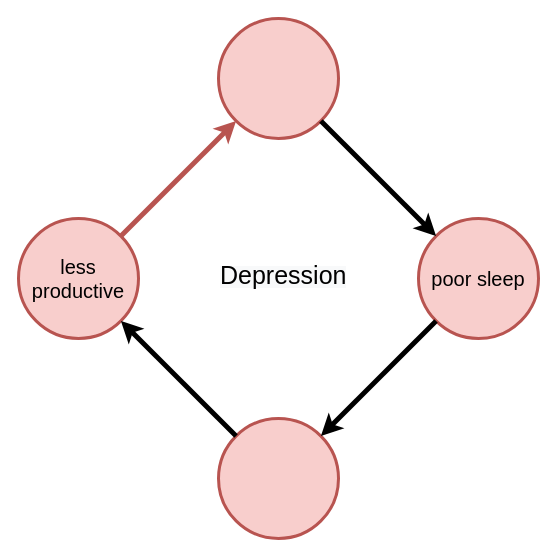
This 557x557 diagram has some shape labels left out. The centre of each missing label's shape, as x and y in pixels:
"feel down" goes at pixel 278 78.
"low energy" goes at pixel 278 478.
